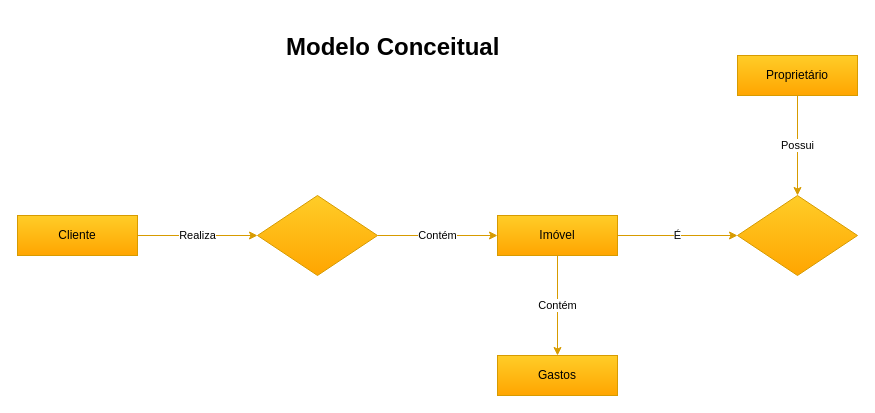
Some shapes in this 875 by 413 pixel diagram are drawn without their labels. Here are the shapes that lost their labels. From the top down, the centre of each, then its label:
At pixel 317 235: "Compra".
At pixel 797 235: "Posse".
